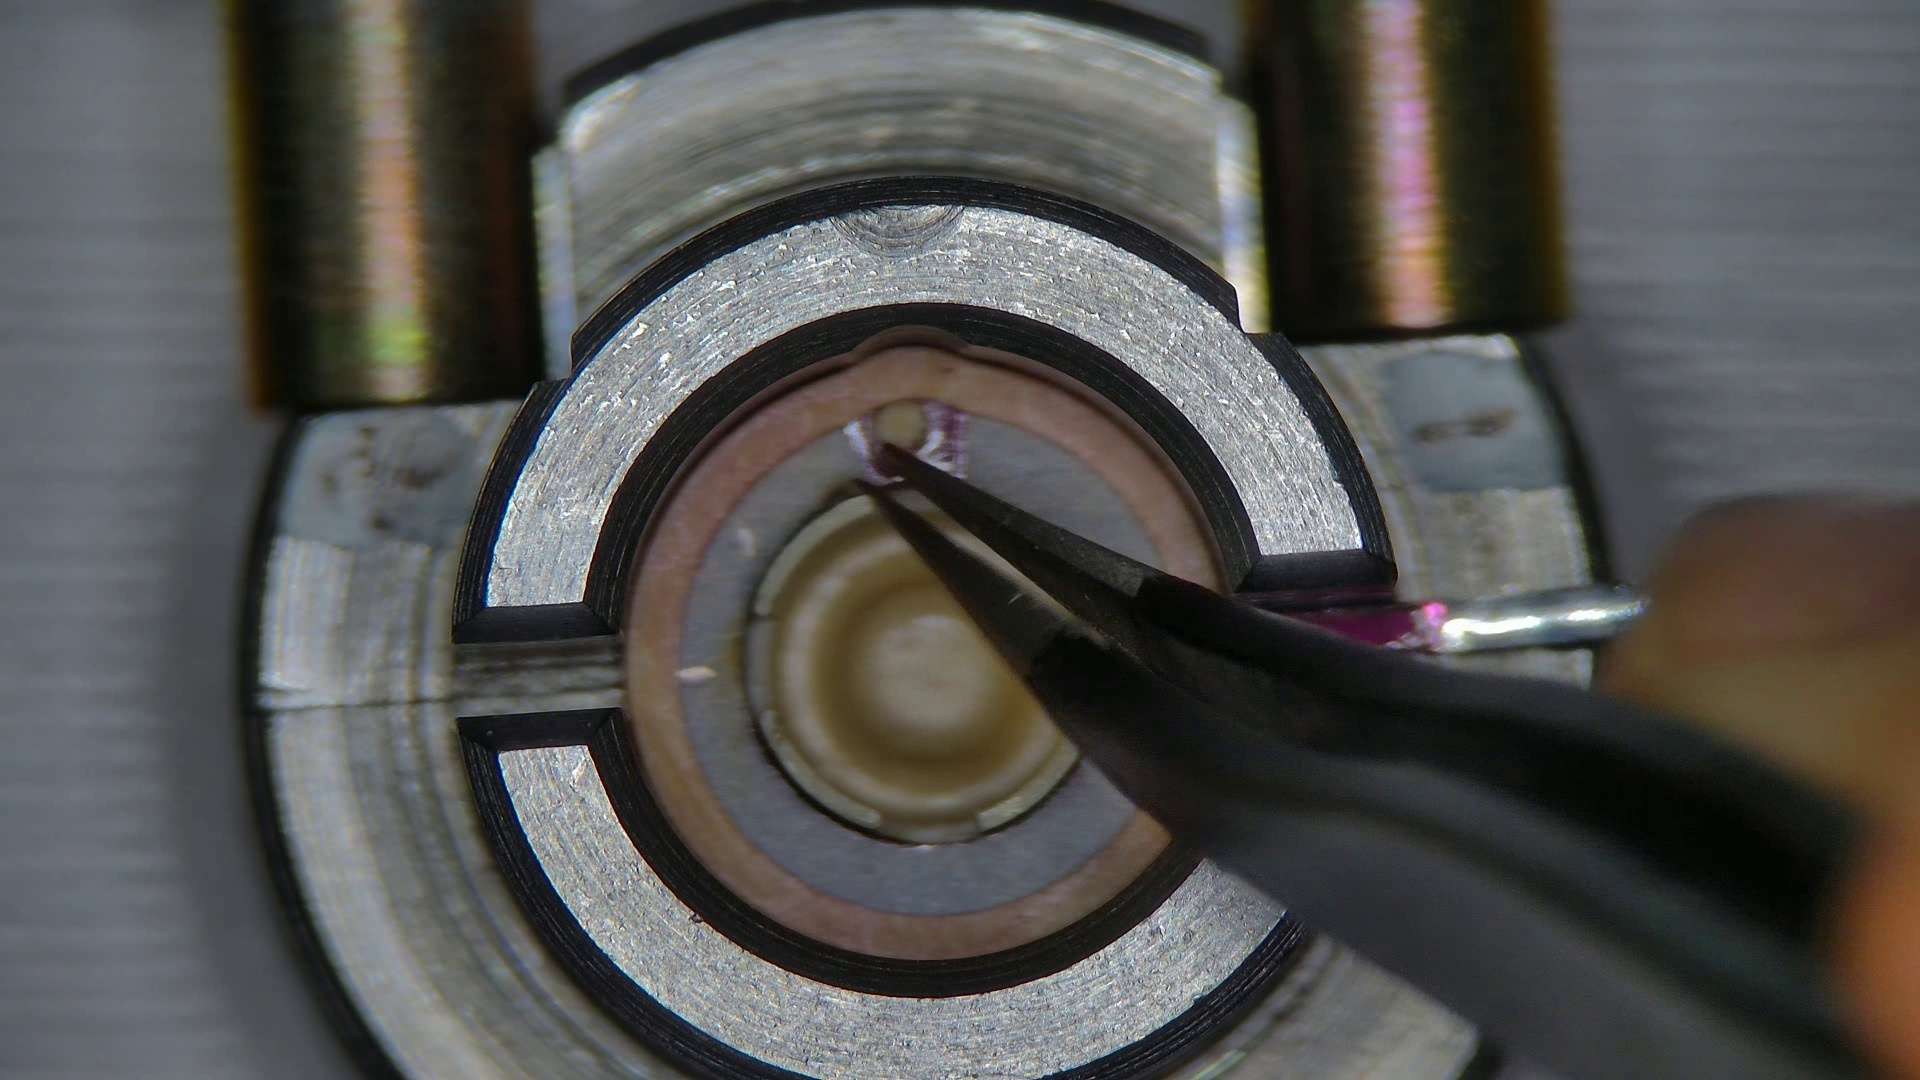GreyOring: (626, 347, 1213, 960)
YellowOring: (682, 403, 1138, 914), (873, 403, 1151, 562)
